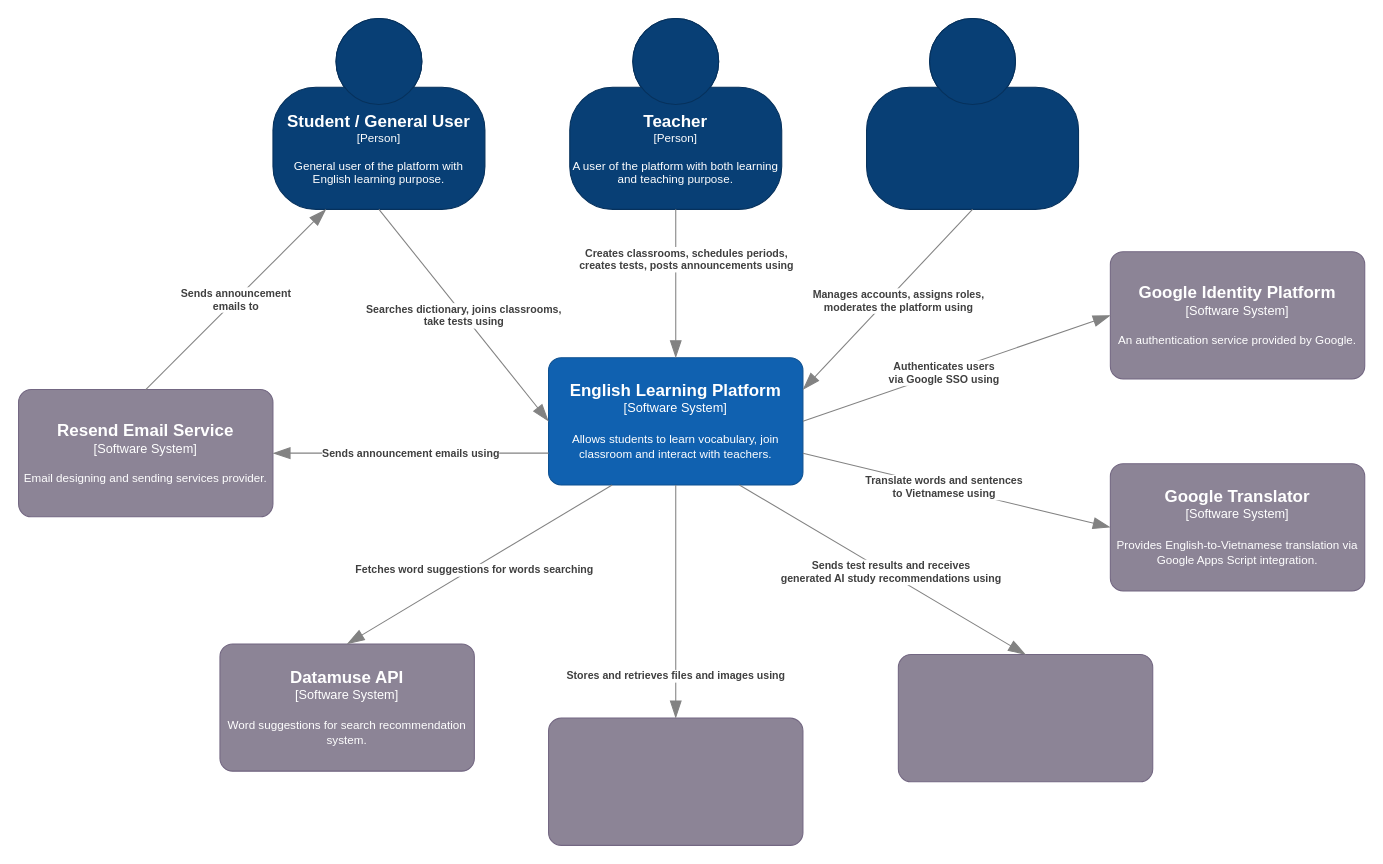
This 1383x864 diagram has some shape labels left out. Here are the shapes that lost their labels. From the top down, the centre of each, then its label:
At pixel 972 113: "Admin [Person] A user of the platform with administrative purpose.".
At pixel 1025 717: "Google Gemini API [Software System] Generative chatbot service provider.".
At pixel 675 781: "Cloudflare R2 [Software System] Cloud storage service provider.".
